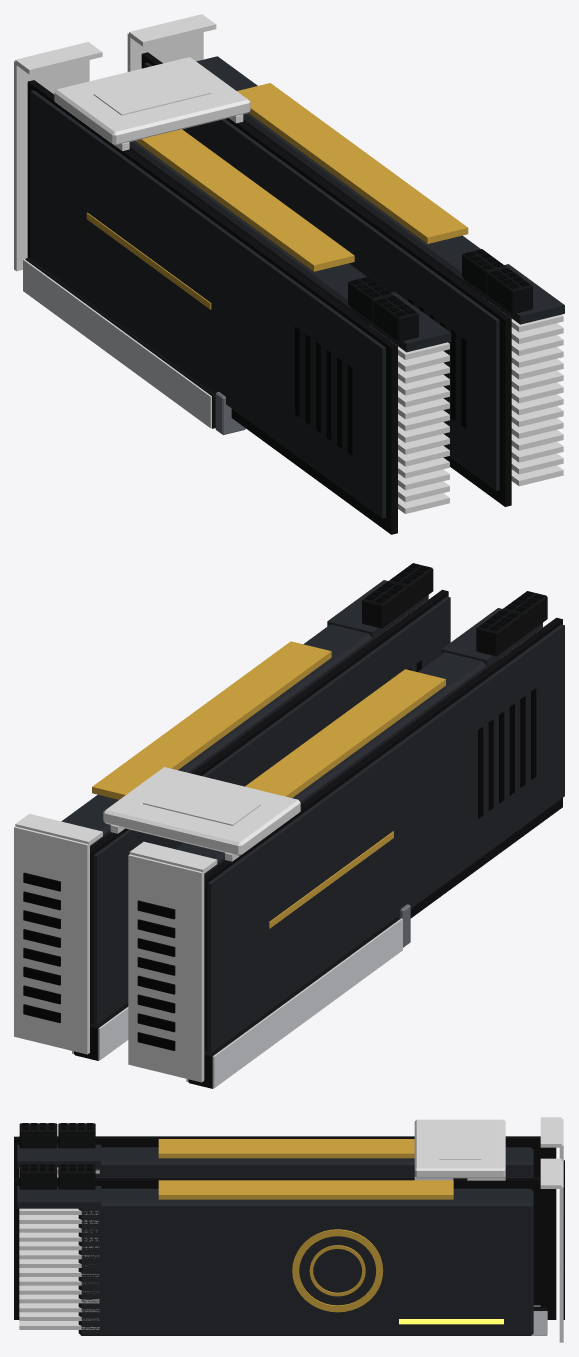
Rendered from hwm_gpu_h200_dual.glb.
The picture shows the model from 3 angles, top to bottom: view 1: azimuth 30°, elevation 25°; view 2: azimuth 150°, elevation 25°; view 3: azimuth 270°, elevation 25°; orthographic projection. The views are drawn at different scales.
Parts seen in each view (by area): view 1: Card_0, Card_1, Bridge, Slot_0; view 2: Card_0, Card_1, Bridge, Slot_0, Slot_1; view 3: Card_1, Card_0, Bridge, Slot_1.
Part boxes in pixels (left/top/right/bottom): Card_0: left=14, top=42, right=451, bottom=534; Card_1: left=127, top=14, right=564, bottom=506; Bridge: left=54, top=57, right=250, bottom=145; Slot_0: left=23, top=257, right=245, bottom=434; Card_0: left=128, top=591, right=564, bottom=1082; Card_1: left=14, top=563, right=450, bottom=1054; Bridge: left=103, top=767, right=300, bottom=856; Slot_0: left=186, top=904, right=410, bottom=1088; Slot_1: left=72, top=1002, right=128, bottom=1060; Card_1: left=14, top=1158, right=564, bottom=1342; Card_0: left=14, top=1117, right=564, bottom=1201; Bridge: left=414, top=1119, right=505, bottom=1178; Slot_1: left=531, top=1306, right=547, bottom=1335.
Size of the model in its own units: 0.093 by 0.1076 by 0.3149.
